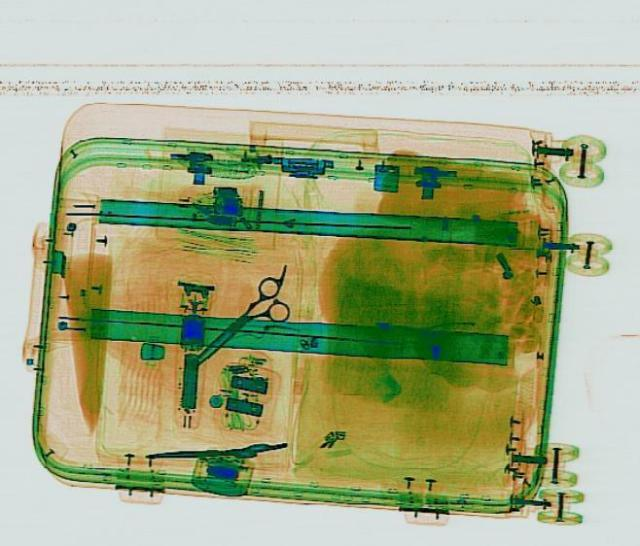Scissors: (175, 272, 305, 374)
